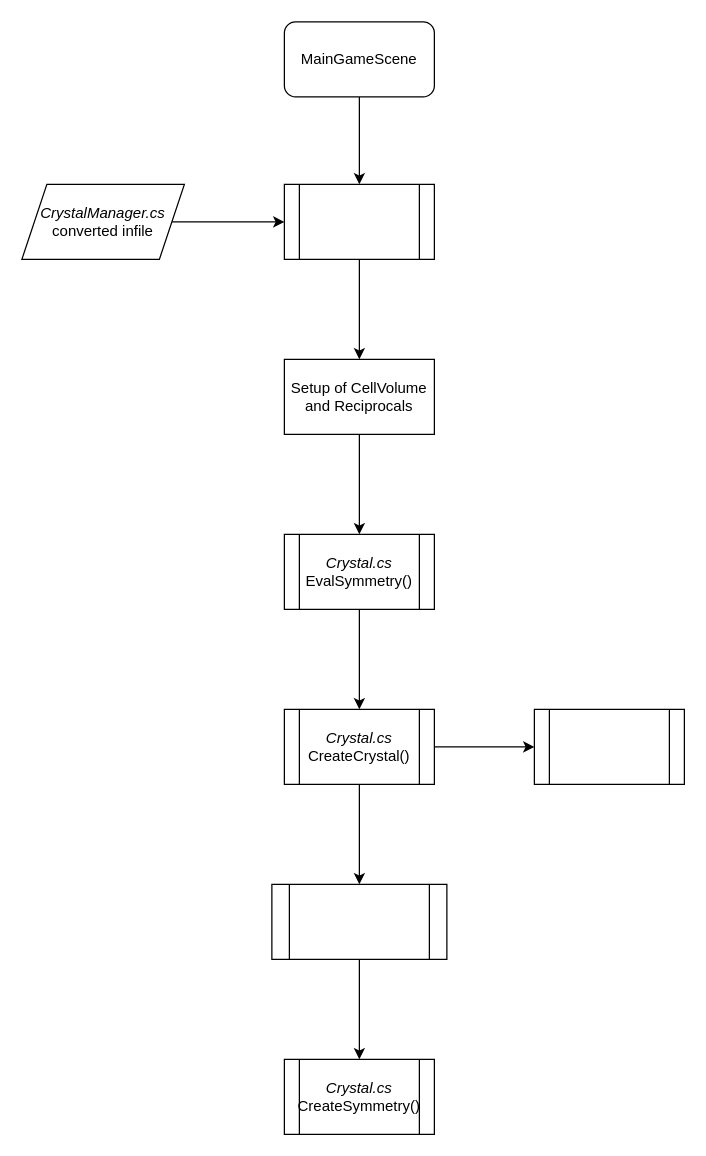
The diagram is 706 pixels wide and 1156 high, and some of its shapes have lost their labels. Each missing label, with the box of its shape:
Crystal.cs CreateUnitCellGrid(): (271, 883, 447, 959)
Crystal.cs ReadConvert(): (283, 183, 434, 259)
CustomTag.cs AddTag(): (533, 708, 684, 784)
